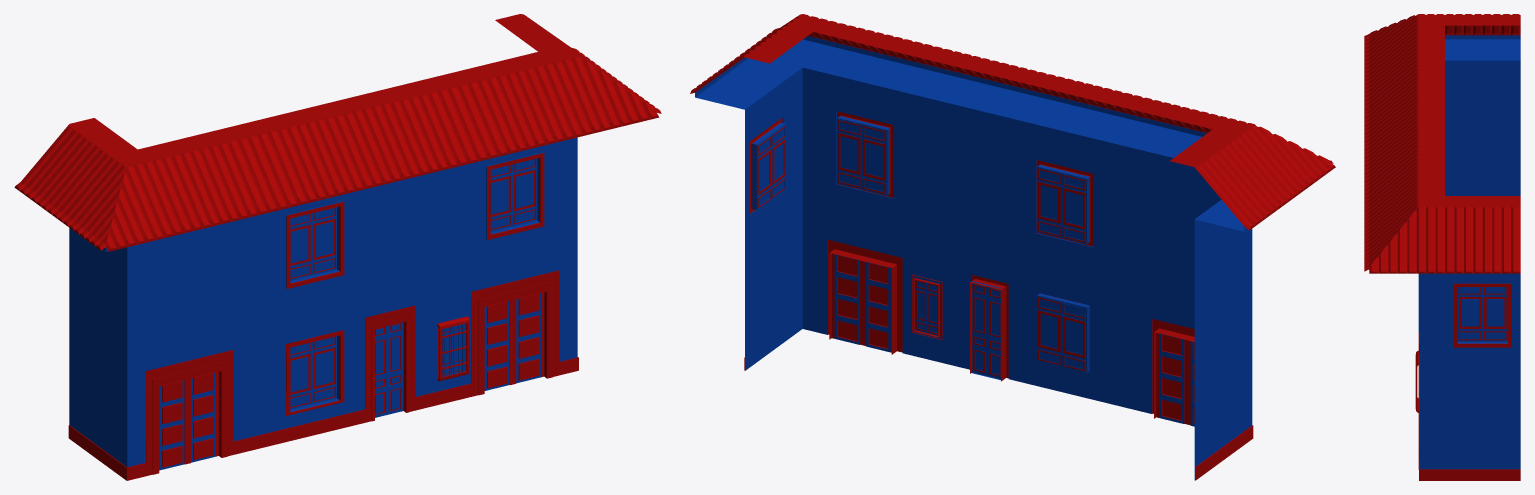
File: House05.fbx
3 views of the same model, side by side, from view 1: azimuth 30°, elevation 25°; view 2: azimuth 150°, elevation 25°; view 3: azimuth 270°, elevation 25° (orthographic). The views are drawn at different scales.
Parts seen in each view (by area): view 1: WallSecondFloor3M2, WallSecondFloor3M3, RoofCorner11, Roof3M19, Roof3M21, Roof3M20, Roof3M22, Roof3M24, WallFrameSmallDoor4, Wall2M20, Wall2M22, Wall2M21 (+28 smaller); view 2: WallSecondFloor3M3, WallFrameSmallDoor4, Wall2M21, Wall2M22, Wall2M20, WallFrameWindows04, Roof3M24, WallSecondFloor3M2, WallSecondFloorFrameWindows4, WallSecondFloorFrameWindows3, WallSecondFloor3M4, WallCorner20 (+26 smaller); view 3: WallSecondFloor3M6, WallSecondFloor3M4, Roof3M23, RoofCorner12, WindowsSecondFloor5, Roof3M24, WallSecondFloorFrameWindows5, WallCorner19, Roof3M19, Roof3M21, Roof3M22, Roof3M20 (+8 smaller).
Part boxes in pixels (bbox=[...]): WallSecondFloor3M2: bbox=[152, 223, 227, 343]; WallSecondFloor3M3: bbox=[352, 174, 427, 294]; RoofCorner11: bbox=[58, 149, 183, 251]; Roof3M19: bbox=[138, 131, 258, 233]; Roof3M21: bbox=[338, 82, 458, 184]; Roof3M20: bbox=[263, 100, 383, 202]; Roof3M22: bbox=[463, 52, 584, 153]; Roof3M24: bbox=[14, 118, 137, 218]; WallFrameSmallDoor4: bbox=[352, 276, 427, 421]; Wall2M20: bbox=[227, 313, 277, 441]; Wall2M22: bbox=[427, 162, 477, 275]; Wall2M21: bbox=[227, 211, 277, 324]; WallSecondFloor3M3: bbox=[952, 104, 1027, 252]; WallFrameSmallDoor4: bbox=[952, 235, 1027, 383]; Wall2M21: bbox=[1102, 140, 1152, 283]; Wall2M22: bbox=[902, 92, 952, 234]; Wall2M20: bbox=[1102, 271, 1152, 413]; WallFrameWindows04: bbox=[1027, 253, 1102, 401]; Roof3M24: bbox=[1170, 129, 1292, 231]; WallSecondFloor3M2: bbox=[1152, 153, 1221, 293]; WallSecondFloorFrameWindows4: bbox=[827, 74, 902, 222]; WallSecondFloorFrameWindows3: bbox=[1027, 122, 1102, 270]; WallSecondFloor3M4: bbox=[745, 209, 788, 370]; WallCorner20: bbox=[788, 67, 827, 208]; WallSecondFloor3M6: bbox=[1445, 60, 1520, 174]; WallSecondFloor3M4: bbox=[1445, 366, 1520, 469]; Roof3M23: bbox=[1445, 196, 1520, 273]; RoofCorner12: bbox=[1364, 196, 1444, 273]; WindowsSecondFloor5: bbox=[1454, 283, 1511, 347]; Roof3M24: bbox=[1445, 14, 1520, 60]; WallSecondFloorFrameWindows5: bbox=[1445, 273, 1520, 366]; WallCorner19: bbox=[1419, 366, 1444, 469]; Roof3M19: bbox=[1364, 25, 1444, 99]; Roof3M21: bbox=[1364, 111, 1444, 184]; Roof3M22: bbox=[1364, 164, 1444, 238]; Roof3M20: bbox=[1364, 79, 1444, 152].
Bounding box in the file's own units: 2240 × 1200 × 620.
